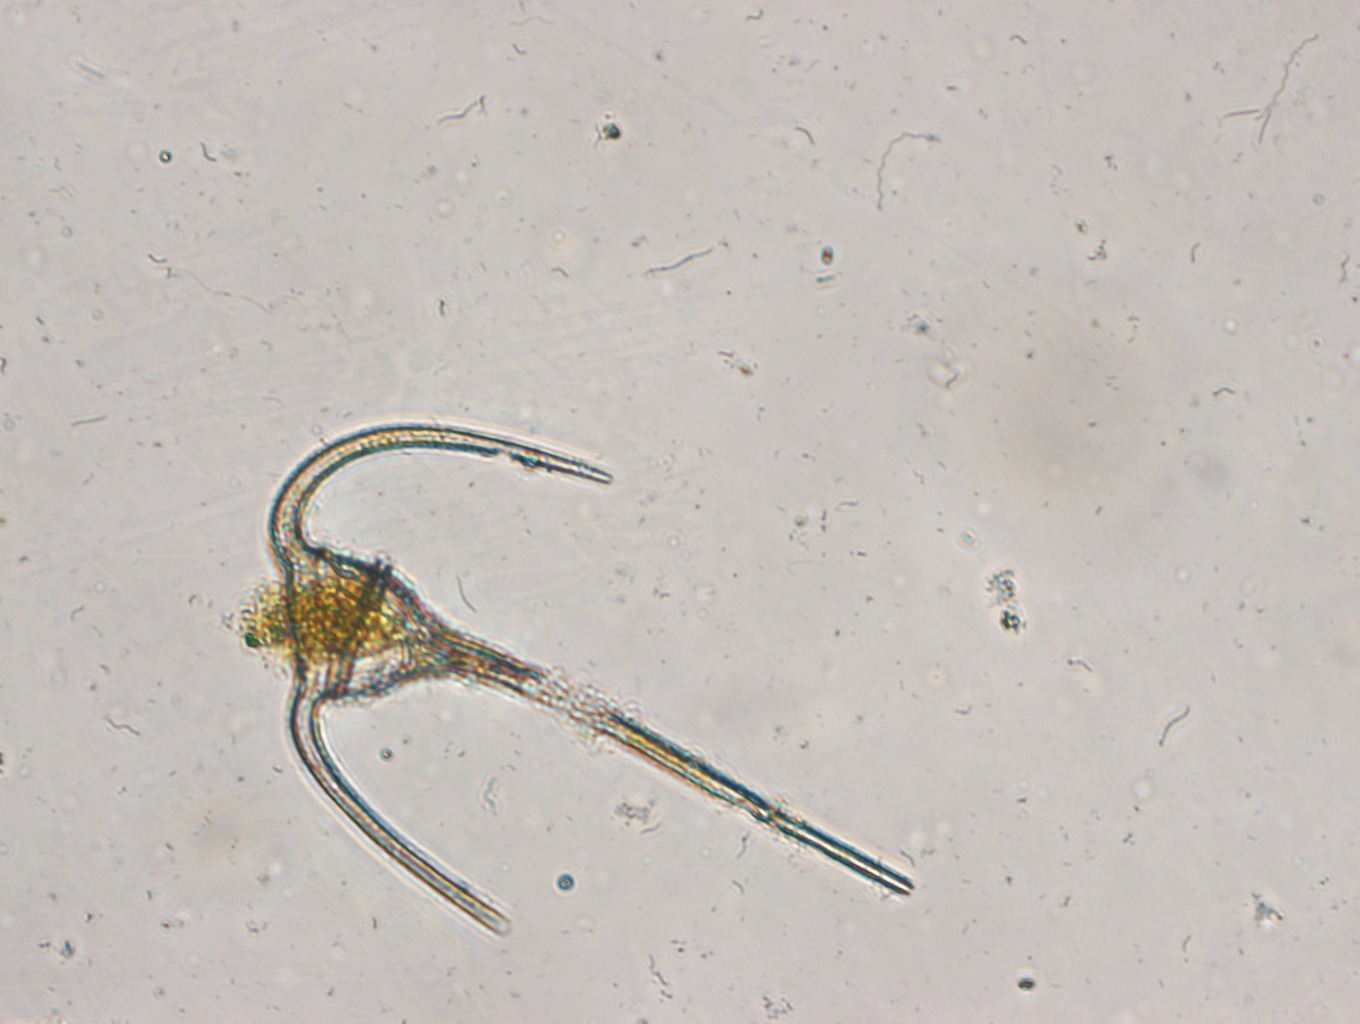ceratium trichoceros: (253, 406, 930, 950)
